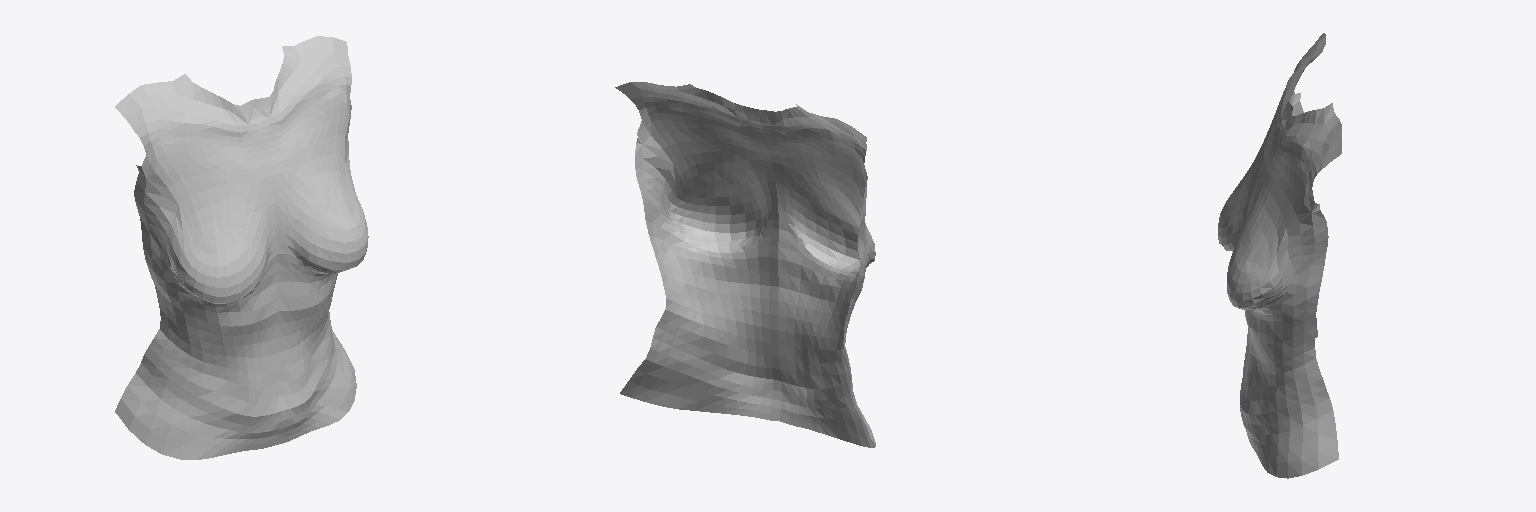
Rendered from deformed_alpha_3_Model1.obj.
3 renders of one model, left to right at view 1: azimuth 30°, elevation 25°; view 2: azimuth 150°, elevation 25°; view 3: azimuth 270°, elevation 25°, orthographic.
Size of the model in its own units: 0.3188 by 0.447 by 0.1413.